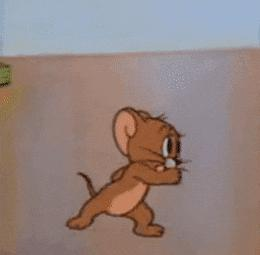jerry: (65, 106, 194, 238)
